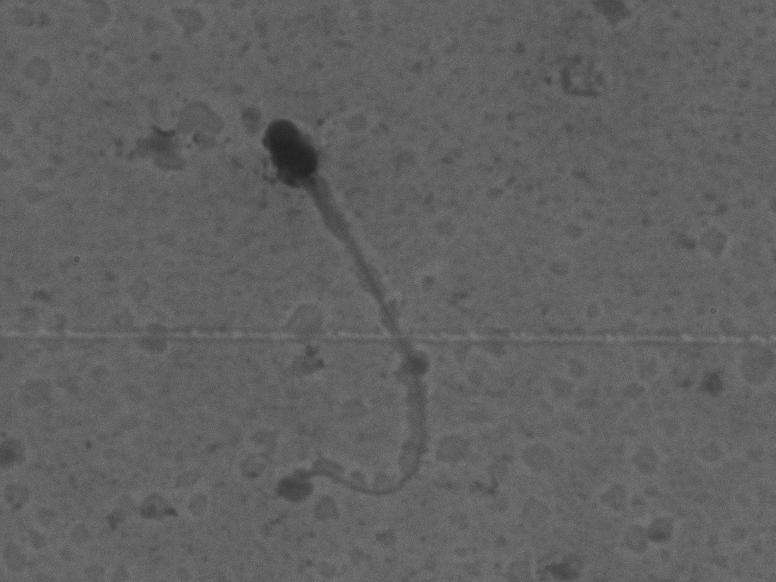Abnormal: (171, 93, 462, 519)
